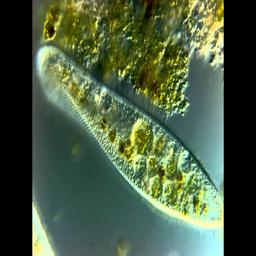Paramecium: (41, 50, 222, 230)
